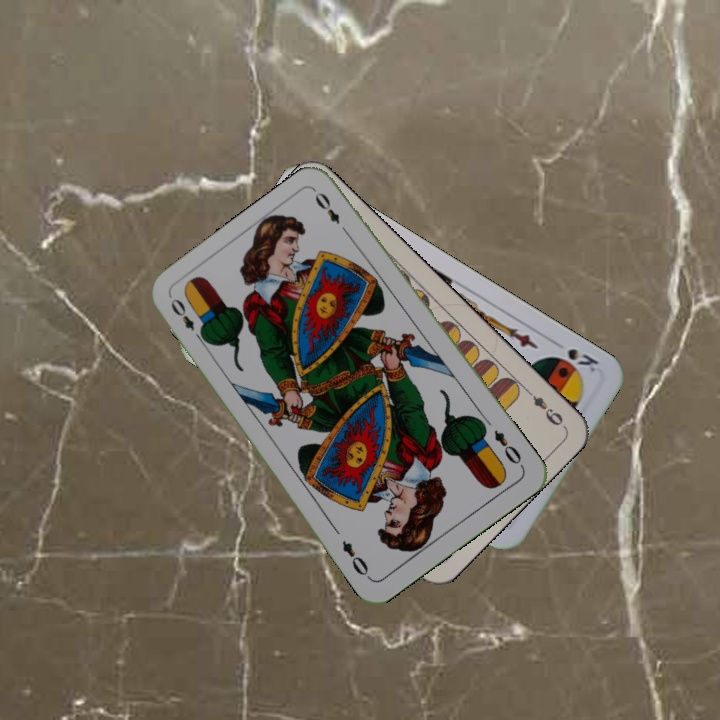E9: (521, 384, 566, 429)
EO: (166, 294, 208, 345), (489, 426, 527, 470)
SK: (563, 344, 602, 375)
